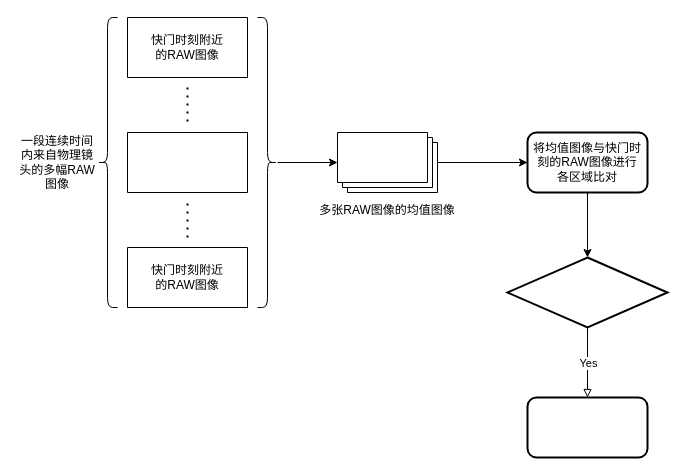
Some shapes in this 685 by 476 pixel diagram are drawn without their labels. Each missing label, with the box of its shape:
快门时刻的RAW图像: (126, 132, 248, 192)
该区域 均值图像与快门图像 接近: (506, 256, 668, 328)
